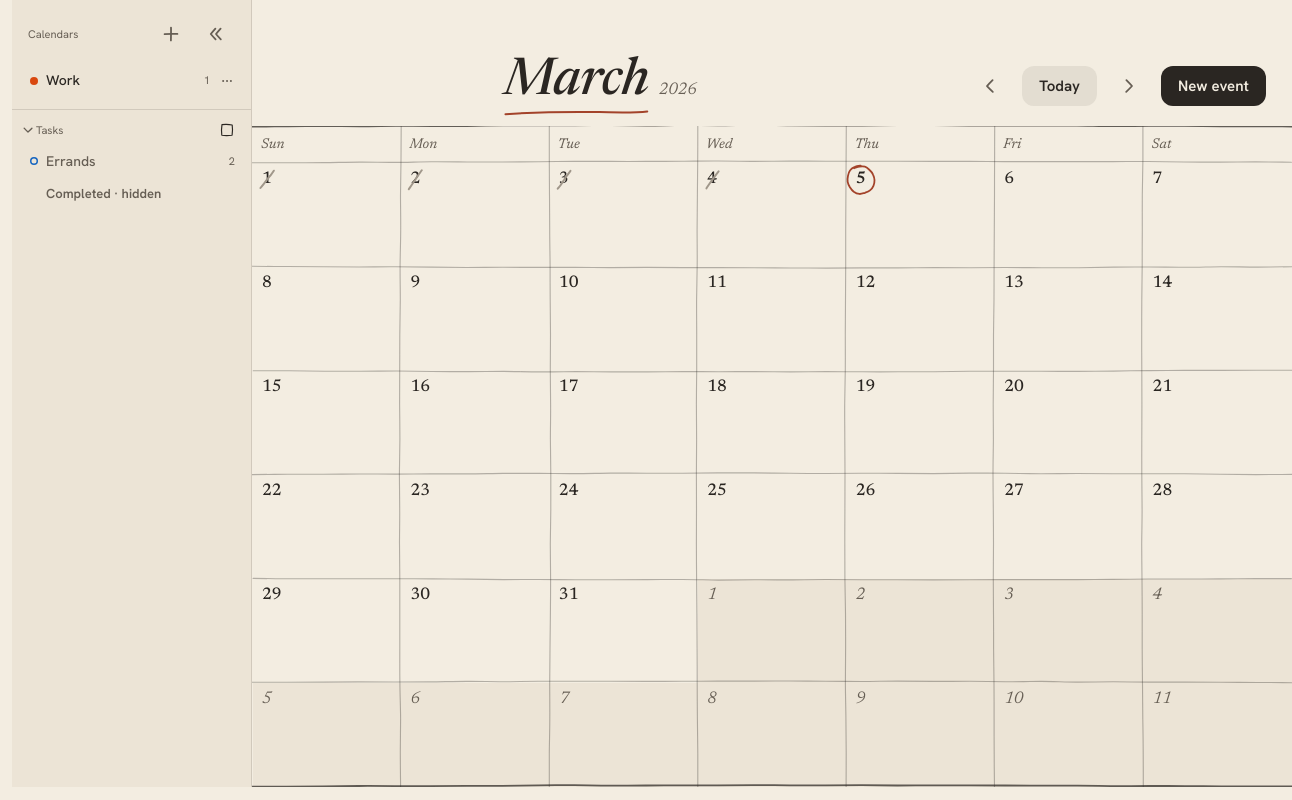
Test: month navigation › ignores an older fetch that settles after a newer one
Expected: the button "Today" is shown, [1022,66,1097,106]
Click the button named "Next month" at [1129, 86], box [1109,66,1149,106]
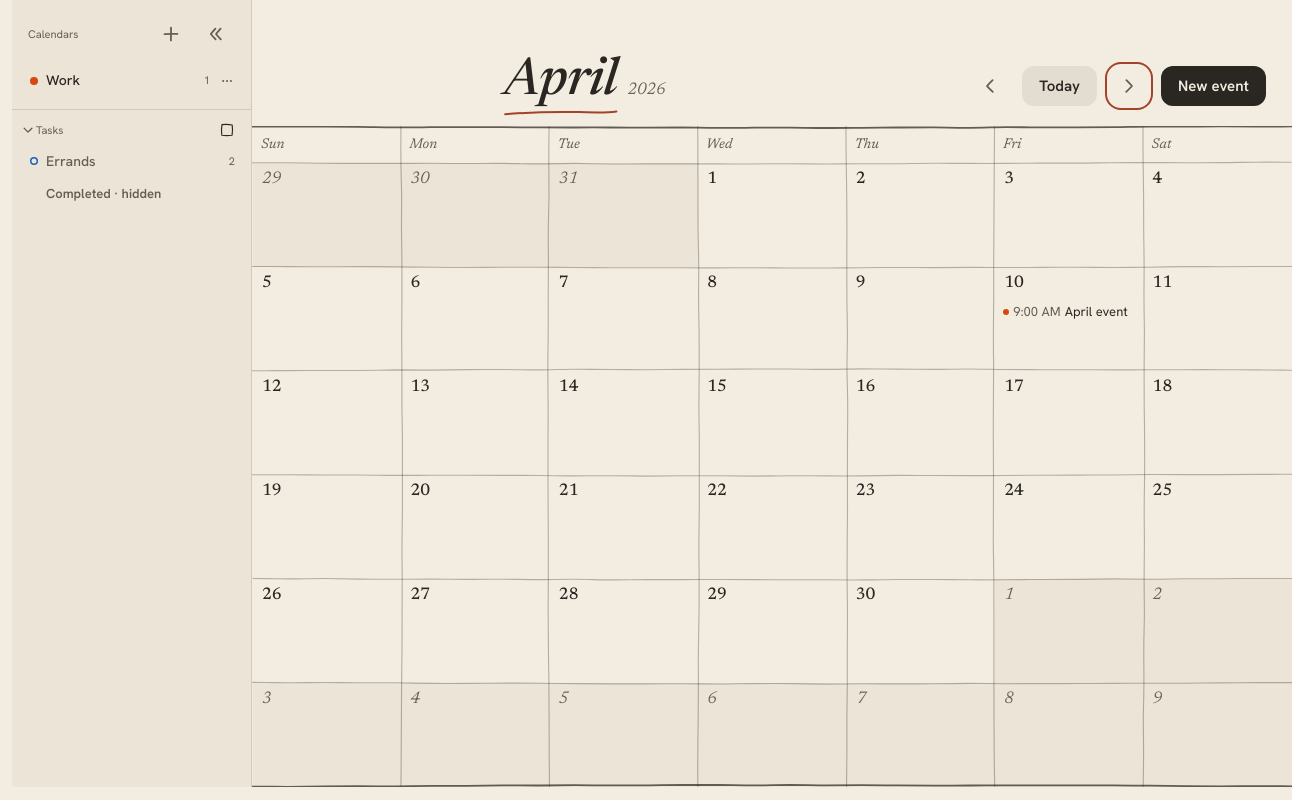
Now the text "April event" is shown, box [1065,303,1128,320]
